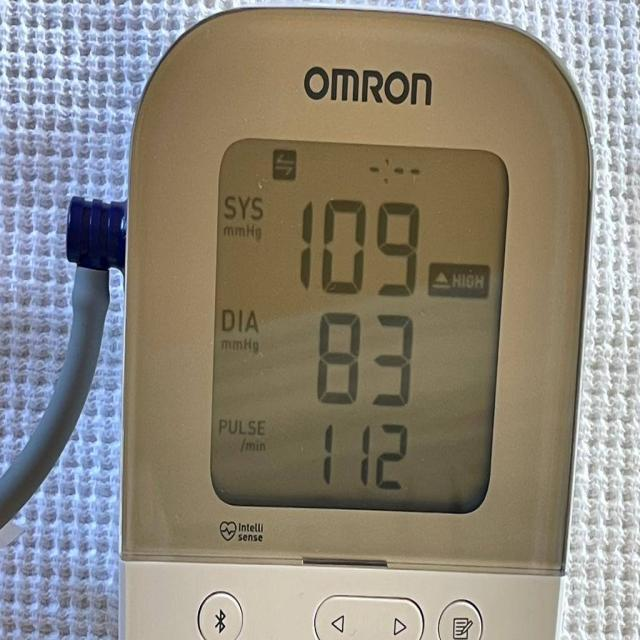bp: (119, 7, 593, 639)
